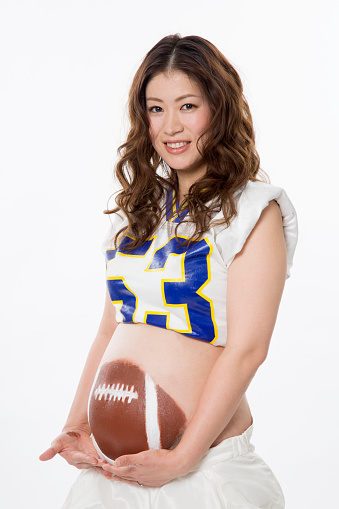em pe: (48, 35, 299, 487)
